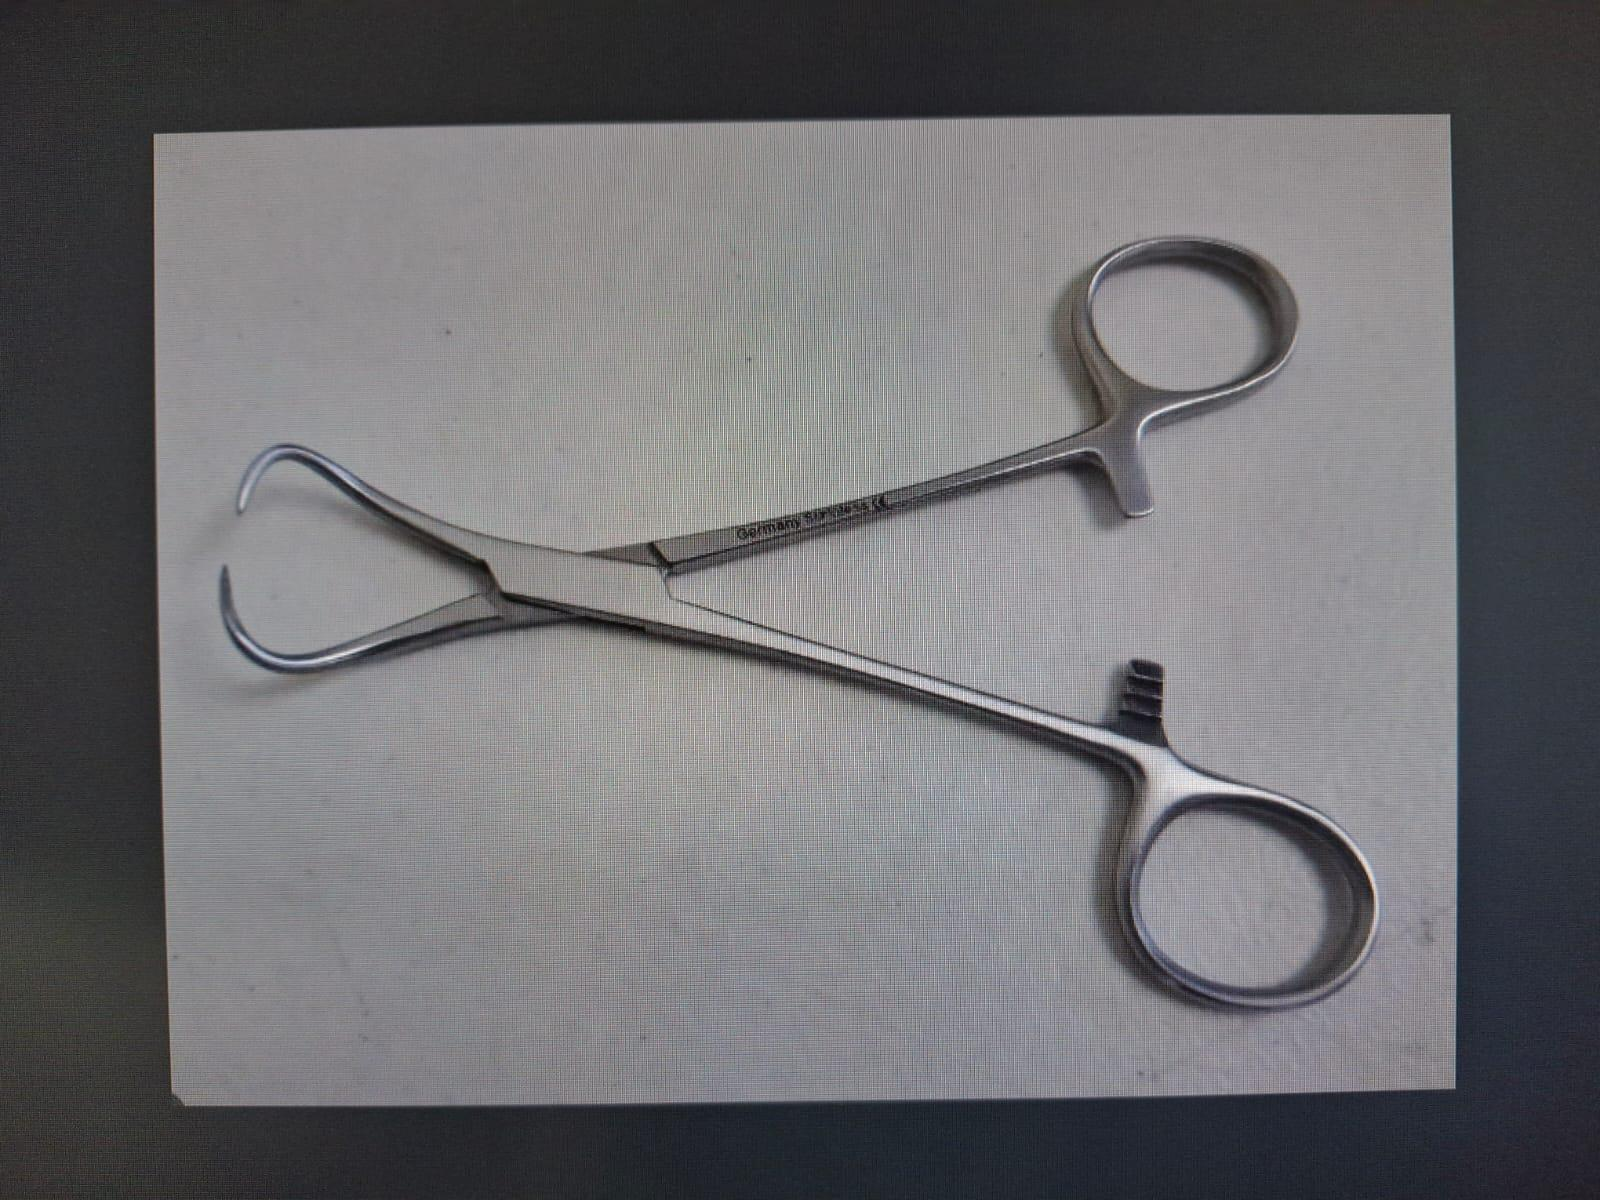Backhaus: (207, 224, 1402, 1022)
